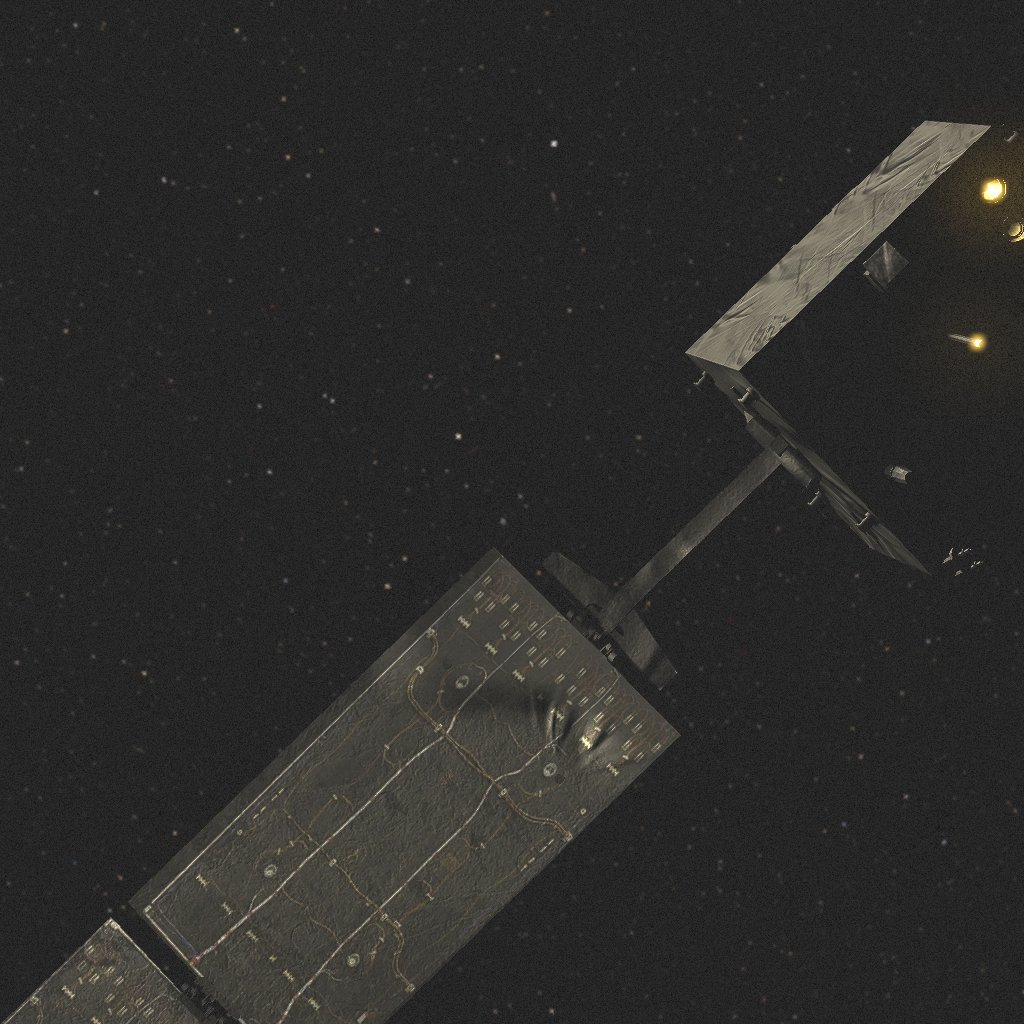smart_1: (0, 120, 1024, 1024)
